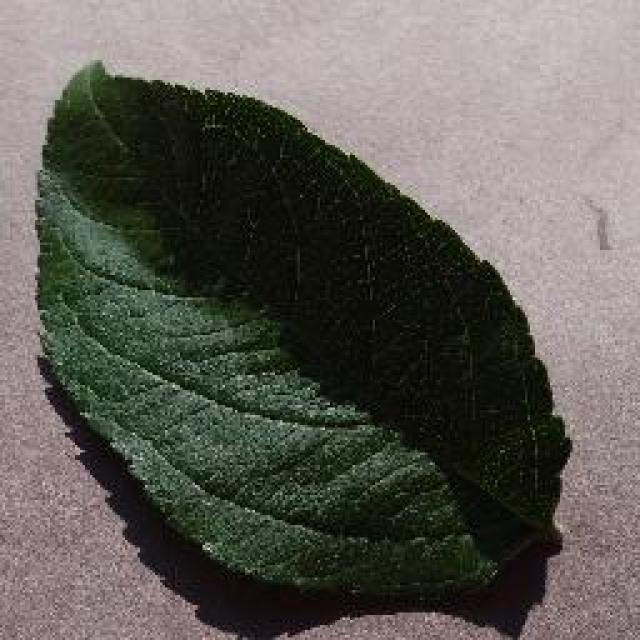apple scab disease: (30, 55, 572, 605)
